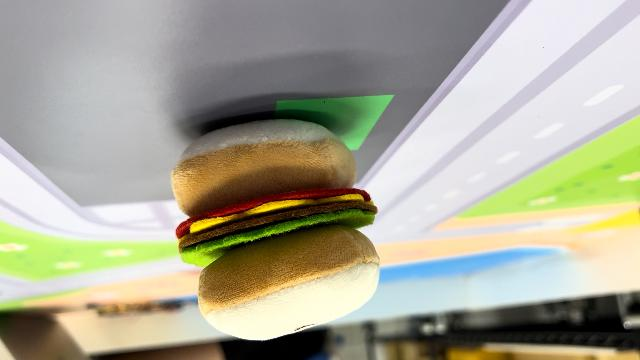sandwich: (168, 115, 384, 341)
